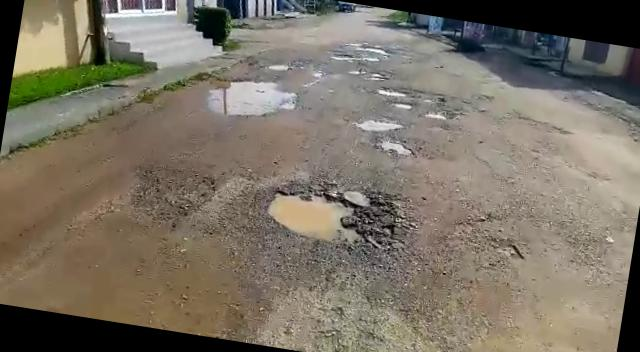pothole: (256, 176, 398, 254), (206, 72, 304, 127), (347, 111, 408, 137), (365, 132, 422, 158), (348, 65, 391, 82), (373, 83, 414, 99), (422, 110, 455, 124), (266, 60, 290, 74), (391, 100, 416, 110)
